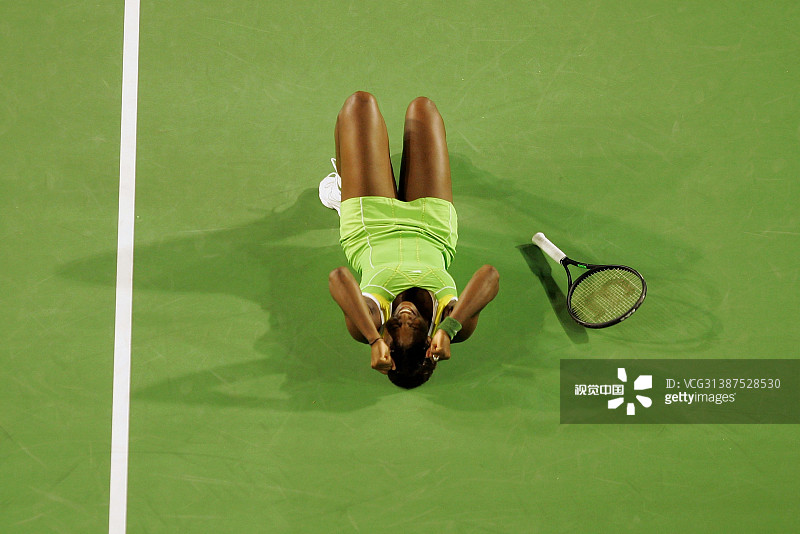down: (287, 83, 509, 400)
